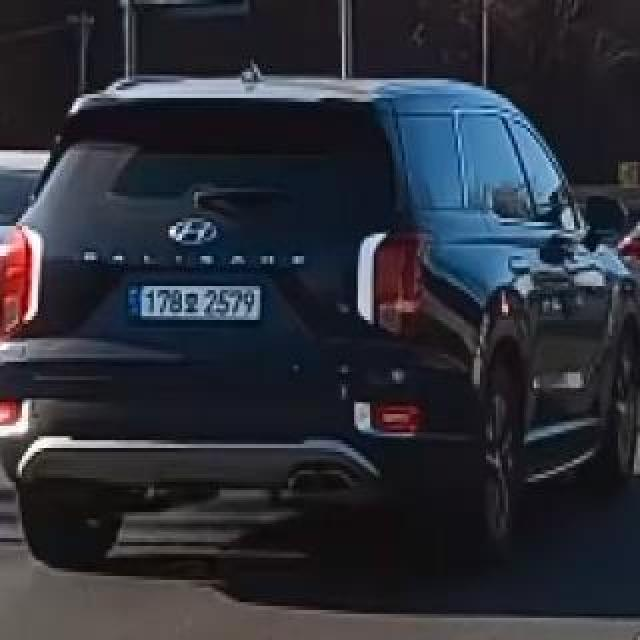car: (0, 60, 640, 564)
illegal_plate: (131, 279, 264, 331)
